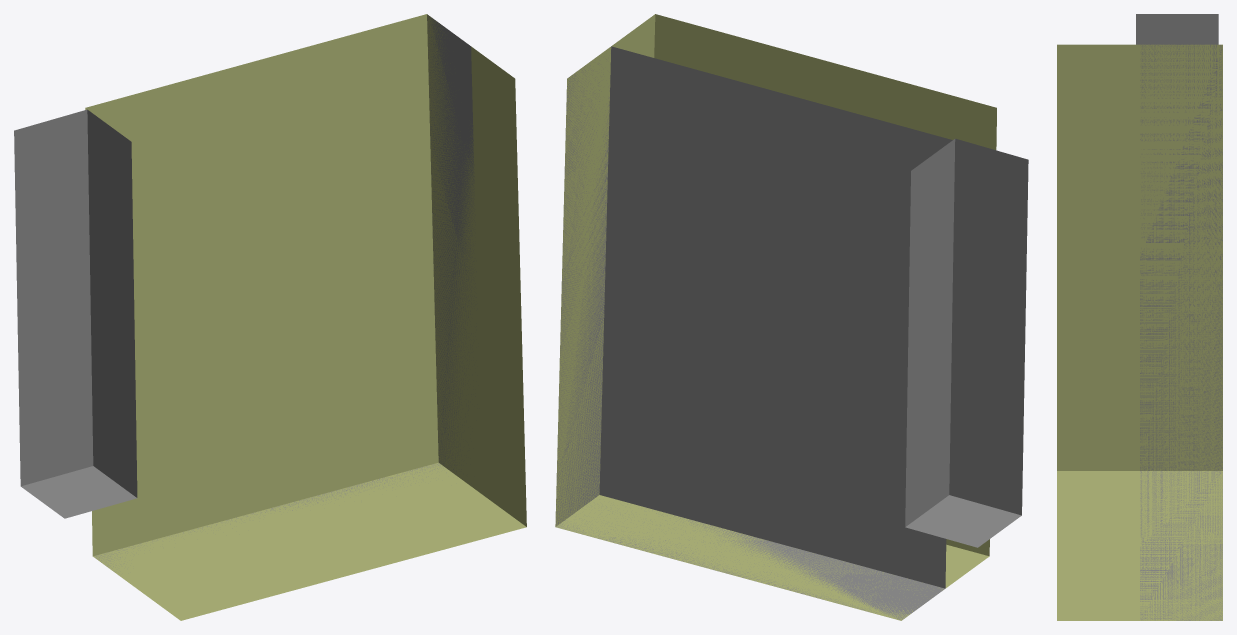
3 renders of one model, left to right at view 1: azimuth 30°, elevation 25°; view 2: azimuth 150°, elevation 25°; view 3: azimuth 270°, elevation 25°, orthographic. The views are drawn at different scales.
Visible parts, largest first — view 1: 0_1_2_0_3_3_1_0_1_1; view 2: 0_1_2_0_3_3_1_0_1_1; view 3: 0_1_2_0_3_3_1_0_1_1.
Part boxes in pixels (x1,y1,x2,y2): 0_1_2_0_3_3_1_0_1_1: (14, 14, 526, 620); 0_1_2_0_3_3_1_0_1_1: (555, 14, 1028, 620); 0_1_2_0_3_3_1_0_1_1: (1057, 14, 1222, 620).
Bounding box in the file's own units: 16.75 × 17.28 × 6.
